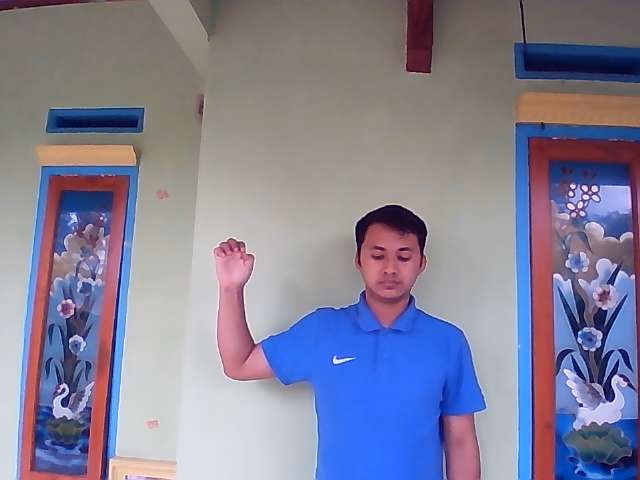E: (212, 238, 255, 289)
